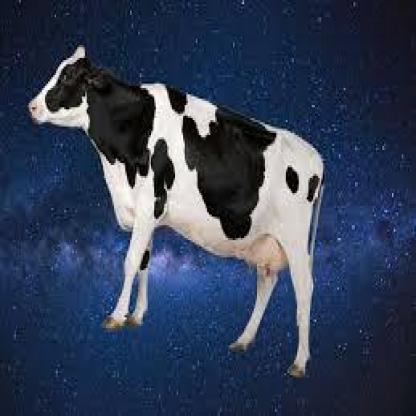cow: (27, 46, 326, 383)
